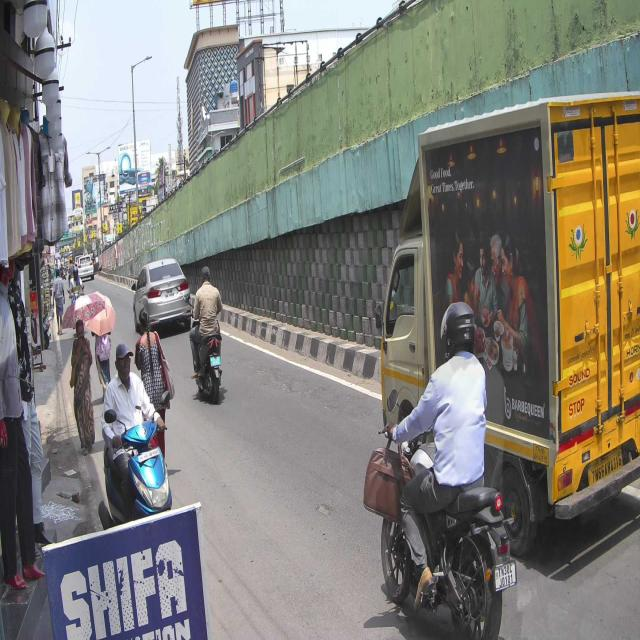single_rider: (378, 301, 518, 640), (98, 341, 174, 526)
